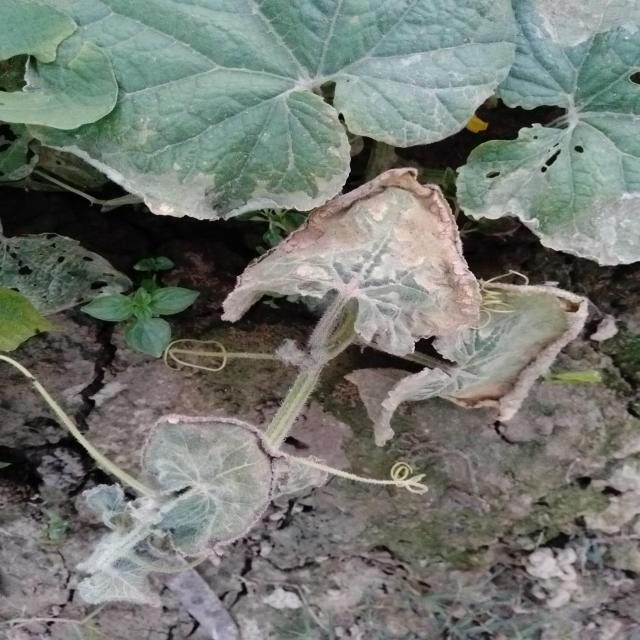cucumber_bacterial: (51, 8, 387, 230), (227, 151, 501, 392), (420, 12, 640, 268), (65, 407, 286, 640), (363, 269, 579, 445)
